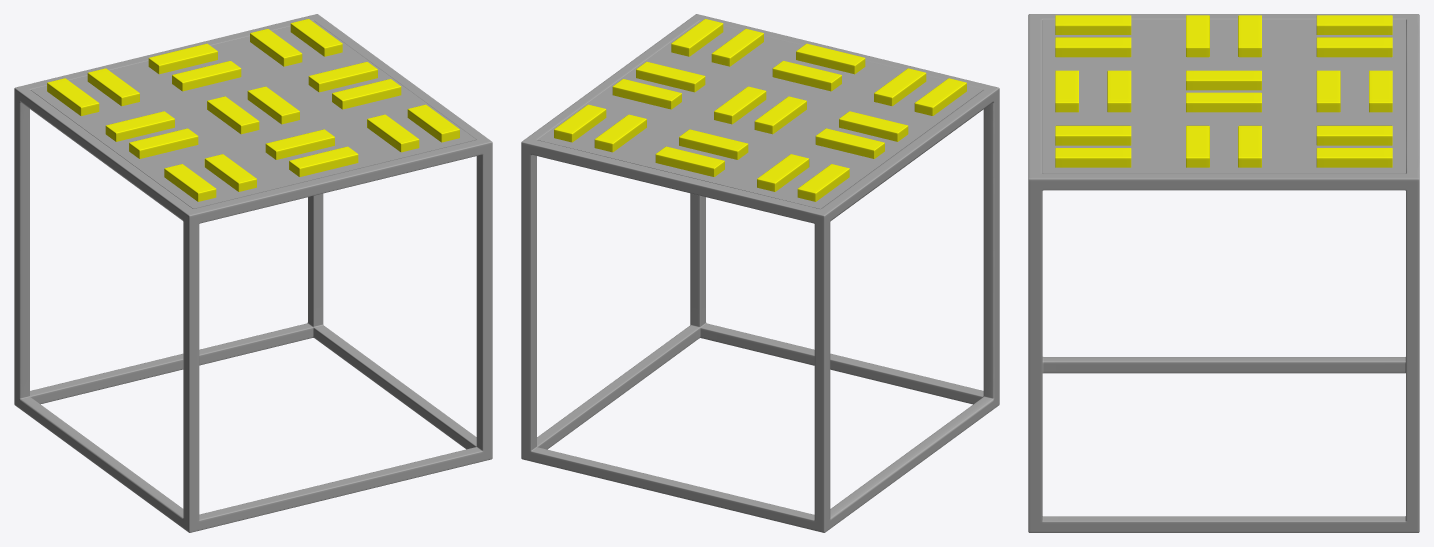
File: Feet_SteelFrame_01.gltf
The picture shows the model from 3 angles, left to right: view 1: azimuth 30°, elevation 25°; view 2: azimuth 150°, elevation 25°; view 3: azimuth 270°, elevation 25°; orthographic projection. The views are drawn at different scales.
Parts seen in each view (by area): view 1: polySurface6, polySurface7, base_top_028, base_top_021, base_top_027, base_top_025, base_top_029, base_top_030, base_top_026, base_top_038, base_top_022, base_top_037 (+8 smaller); view 2: polySurface6, polySurface7, base_top_027, base_top_029, base_top_028, base_top_021, base_top_026, base_top_025, base_top_030, base_top_038, base_top_022, base_top_024 (+8 smaller); view 3: polySurface6, polySurface7, base_top_024, base_top_032, base_top_031, base_top_033, base_top_036, base_top_023, base_top_022, base_top_037, base_top_034, base_top_020 (+8 smaller).
Part boxes in pixels (bbox=[...]): polySurface6: bbox=[14, 14, 492, 532]; polySurface7: bbox=[31, 20, 475, 208]; base_top_028: bbox=[308, 62, 377, 92]; base_top_021: bbox=[129, 128, 198, 158]; base_top_027: bbox=[332, 79, 401, 109]; base_top_025: bbox=[289, 146, 358, 176]; base_top_029: bbox=[105, 111, 174, 141]; base_top_030: bbox=[148, 43, 217, 74]; base_top_026: bbox=[265, 129, 334, 159]; base_top_038: bbox=[172, 61, 241, 91]; base_top_022: bbox=[290, 19, 342, 56]; base_top_037: bbox=[407, 104, 459, 142]; polySurface6: bbox=[521, 14, 999, 532]; polySurface7: bbox=[537, 20, 982, 208]; base_top_027: bbox=[636, 61, 705, 92]; base_top_029: bbox=[815, 128, 884, 158]; base_top_028: bbox=[612, 79, 681, 109]; base_top_021: bbox=[839, 111, 908, 141]; base_top_026: bbox=[772, 60, 841, 91]; base_top_025: bbox=[796, 43, 865, 74]; base_top_030: bbox=[655, 146, 724, 176]; base_top_038: bbox=[679, 129, 748, 159]; base_top_022: bbox=[554, 104, 606, 142]; base_top_024: bbox=[594, 114, 646, 152]; polySurface6: bbox=[1028, 14, 1419, 532]; polySurface7: bbox=[1042, 19, 1405, 173]; base_top_024: bbox=[1316, 125, 1392, 145]; base_top_032: bbox=[1055, 37, 1131, 57]; base_top_031: bbox=[1316, 37, 1392, 57]; base_top_033: bbox=[1055, 125, 1131, 145]; base_top_036: bbox=[1186, 92, 1261, 112]; base_top_023: bbox=[1186, 70, 1261, 90]; base_top_022: bbox=[1316, 148, 1392, 167]; base_top_037: bbox=[1055, 148, 1131, 167]; base_top_034: bbox=[1316, 15, 1392, 34]; base_top_020: bbox=[1055, 15, 1131, 34].
Size of the model in its own units: 0.36 by 0.37 by 0.36.
Materials: 2 (1 with a texture image).
